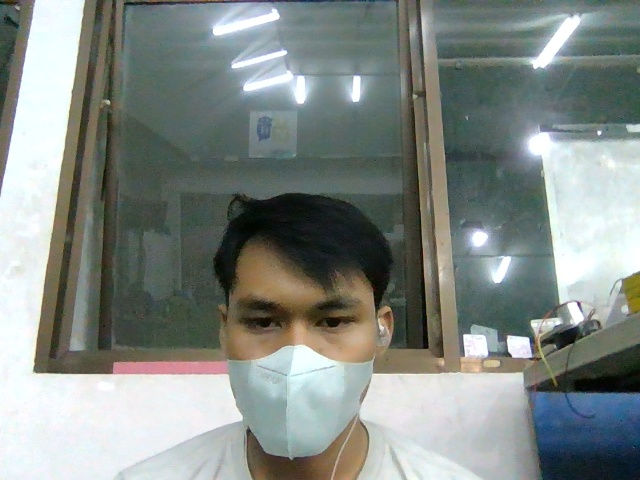mask_on: (226, 345, 374, 459)
